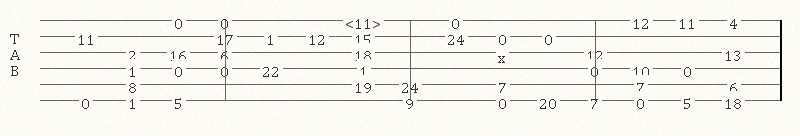0: (81, 93, 94, 107), (174, 13, 187, 27), (174, 61, 187, 75), (220, 61, 233, 75), (220, 13, 233, 27), (451, 13, 464, 27), (498, 29, 511, 43), (498, 93, 511, 107), (544, 29, 557, 43), (590, 61, 603, 75), (636, 93, 649, 107), (683, 61, 696, 75)
1: (128, 93, 141, 107), (128, 61, 141, 75), (266, 29, 279, 43), (359, 61, 372, 75)
10: (632, 61, 654, 75)
11: (77, 29, 99, 43), (678, 13, 700, 27)
12: (308, 29, 330, 43), (586, 45, 608, 59), (632, 13, 654, 27)
13: (724, 45, 746, 59)
15: (354, 29, 376, 44)
16: (169, 45, 191, 59)
17: (216, 29, 238, 43)
18: (354, 45, 376, 59), (724, 93, 746, 107)
19: (354, 77, 376, 91)
2: (128, 45, 141, 59)
20: (539, 93, 561, 107)
22: (262, 61, 284, 75)
24: (401, 77, 423, 91), (447, 29, 469, 43)
4: (729, 13, 742, 27)
5: (174, 93, 187, 108), (683, 93, 696, 108)
6: (220, 45, 233, 59), (729, 77, 742, 91)
7: (498, 77, 511, 91), (590, 93, 603, 107), (636, 77, 649, 91)
8: (128, 77, 141, 91)
9: (405, 93, 418, 107)
harmonic: (345, 13, 385, 27)
x: (498, 47, 510, 58)
